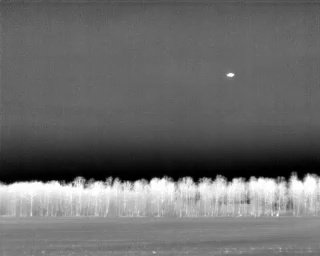DRONE: (223, 69, 238, 82)
